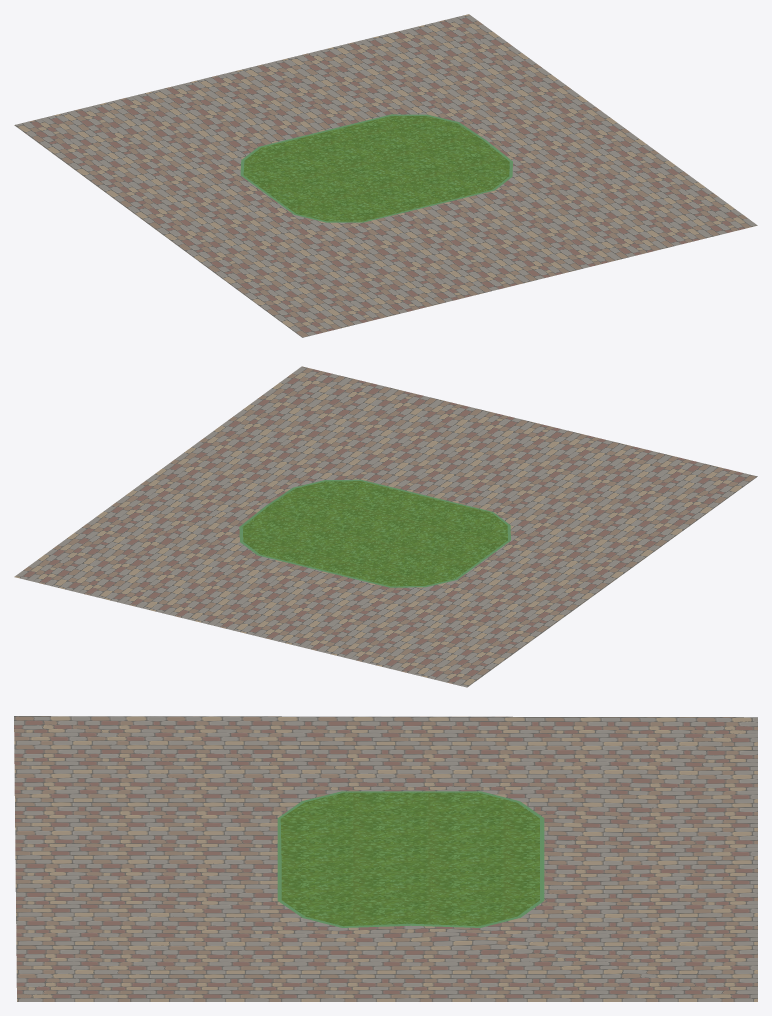
File: level1-1.obj
The picture shows the model from 3 angles, top to bottom: view 1: azimuth 30°, elevation 25°; view 2: azimuth 150°, elevation 25°; view 3: azimuth 270°, elevation 25°; orthographic projection. The views are drawn at different scales.
Parts seen in each view (by area): view 1: Plane; view 2: Plane; view 3: Plane.
Part boxes in pixels (<box>): Plane: <box>14,14,757,337</box>; Plane: <box>14,366,757,687</box>; Plane: <box>14,716,757,1001</box>.
Bounding box in the file's own units: 20.48 × 0.0889 × 22.53.
